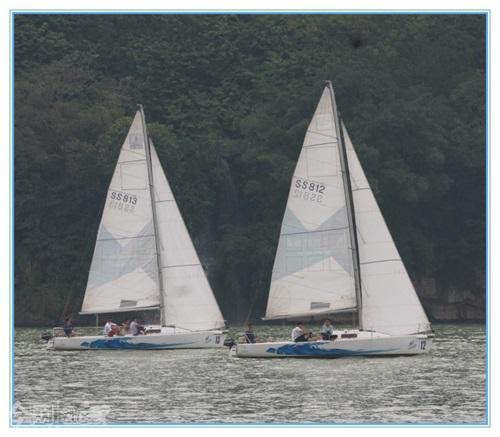Ship: (231, 82, 443, 366), (45, 102, 233, 357)
